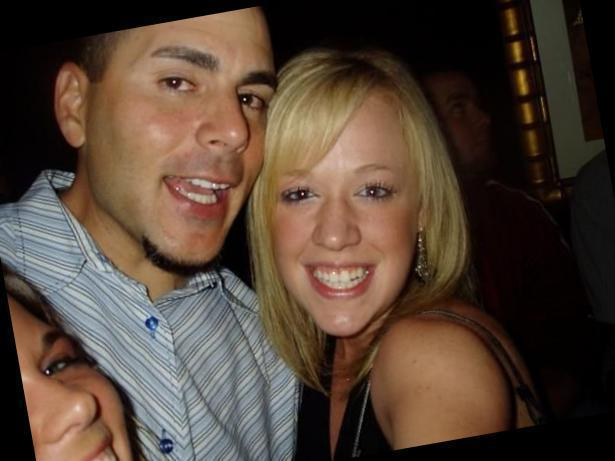Drunk: (280, 100, 408, 320), (143, 28, 259, 252)
